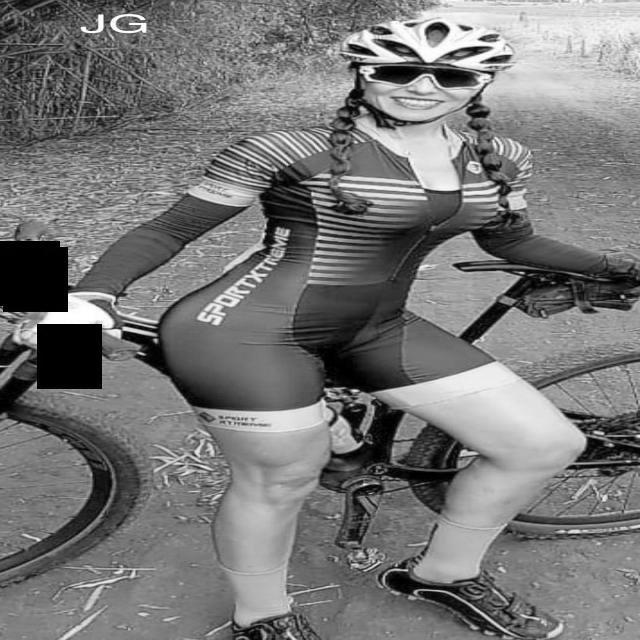helmet: (338, 16, 516, 74)
